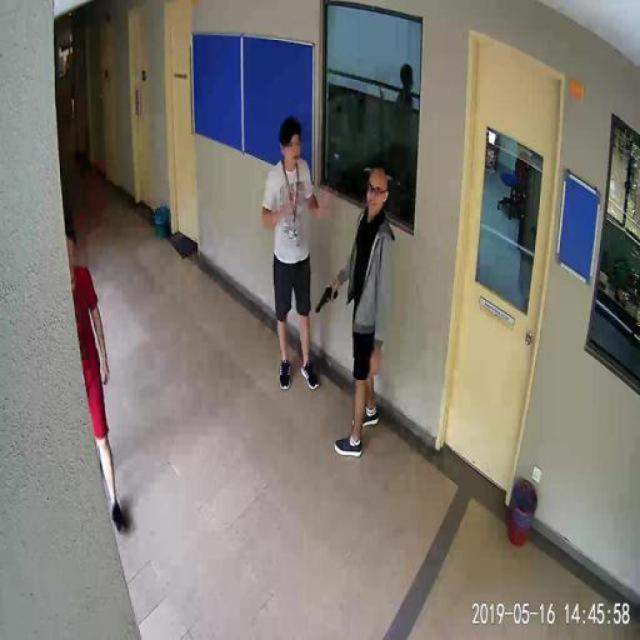pistol: (314, 284, 336, 310)
